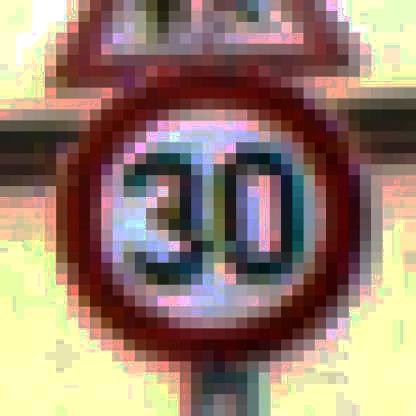Speed Limit -30-: (50, 63, 374, 370)
